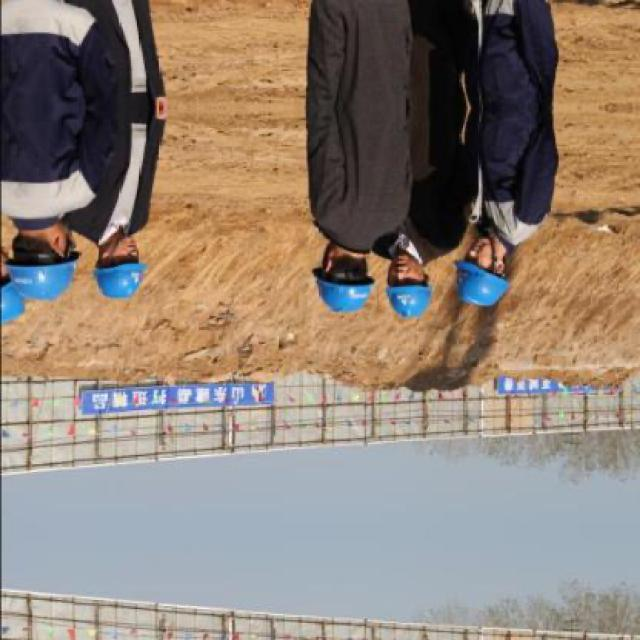con casco: (344, 238, 442, 336), (282, 231, 366, 335), (20, 212, 104, 314), (451, 227, 532, 331), (96, 237, 188, 300)
